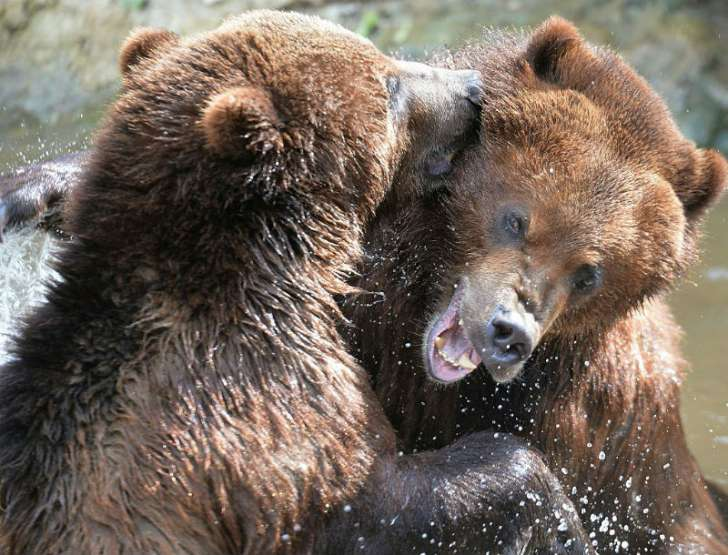bear: (419, 122, 703, 409), (114, 4, 492, 208)
